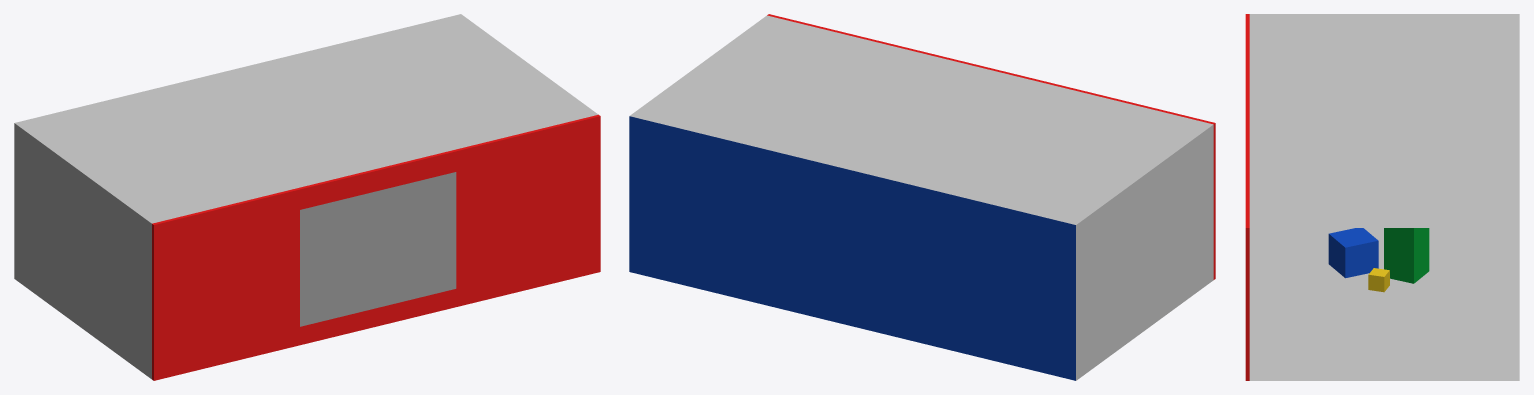
File: cubebox.obj
The picture shows the model from 3 angles, left to right: view 1: azimuth 30°, elevation 25°; view 2: azimuth 150°, elevation 25°; view 3: azimuth 270°, elevation 25°; orthographic projection.
Visible parts, largest first — view 1: walls, leftWall, light; view 2: walls, rightWall, leftWall; view 3: walls, rightCube, leftCube, leftWall, midCube.
Boxes of the visible parts, left/top/right/bottom form: walls: left=14, top=14, right=597, bottom=379; leftWall: left=152, top=114, right=600, bottom=380; light: left=300, top=172, right=456, bottom=326; walls: left=629, top=15, right=1213, bottom=380; rightWall: left=629, top=116, right=1075, bottom=380; leftWall: left=767, top=14, right=1215, bottom=279; walls: left=1249, top=14, right=1519, bottom=380; rightCube: left=1384, top=228, right=1429, bottom=283; leftCube: left=1328, top=228, right=1378, bottom=278; leftWall: left=1245, top=14, right=1249, bottom=380; midCube: left=1368, top=268, right=1389, bottom=292.
Size of the model in its own units: 6 by 2 by 3.26.
